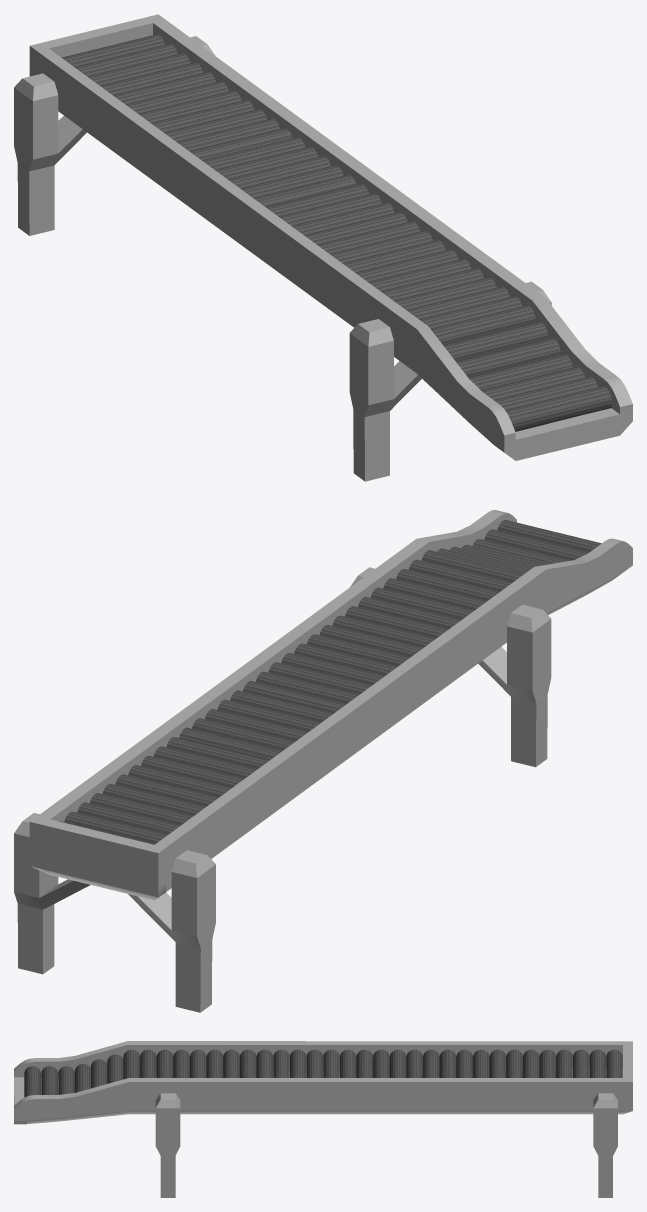
File: Belt.fbx
The picture shows the model from 3 angles, top to bottom: view 1: azimuth 30°, elevation 25°; view 2: azimuth 150°, elevation 25°; view 3: azimuth 270°, elevation 25°; orthographic projection. The views are drawn at different scales.
Parts seen in each view (by area): view 1: pasted__pCube7; view 2: pasted__pCube7; view 3: pasted__pCube7.
Part boxes in pixels (x1,y1,x2,y2): pasted__pCube7: (14,14,632,481); pasted__pCube7: (14,510,632,1012); pasted__pCube7: (14,1041,632,1197).
Bounding box in the file's own units: 8.37 × 7.17 × 37.54.
